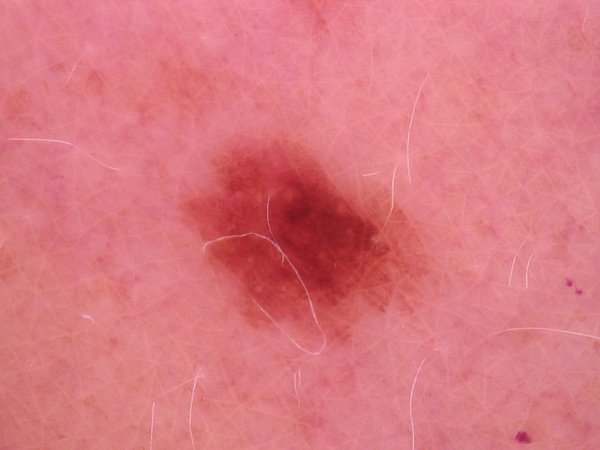Detected Lesion: (181, 139, 418, 347)
